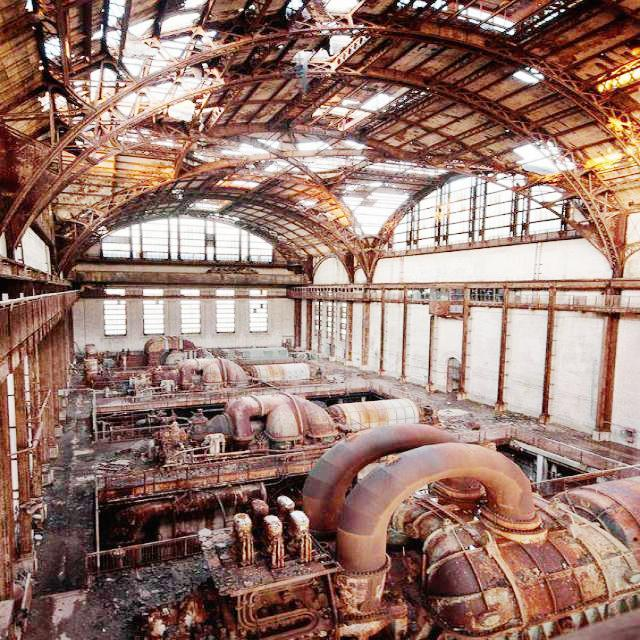Corrosion: (288, 276, 640, 320), (565, 215, 640, 279)
